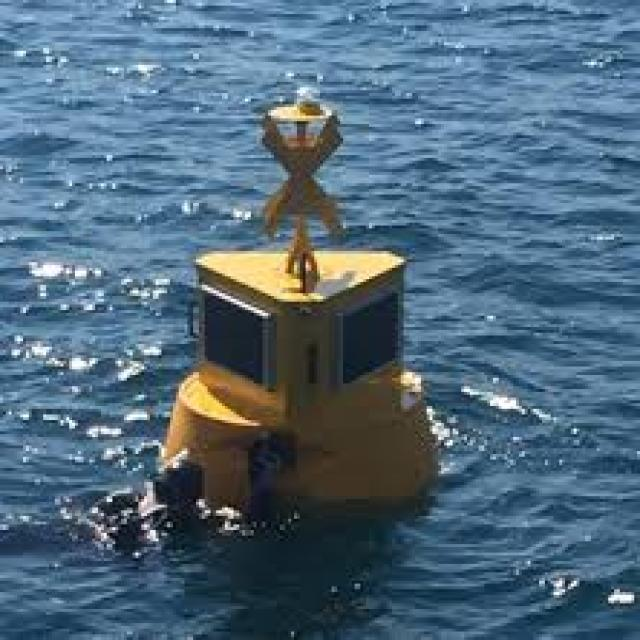2.5 sepcial mark: (154, 51, 452, 538)
